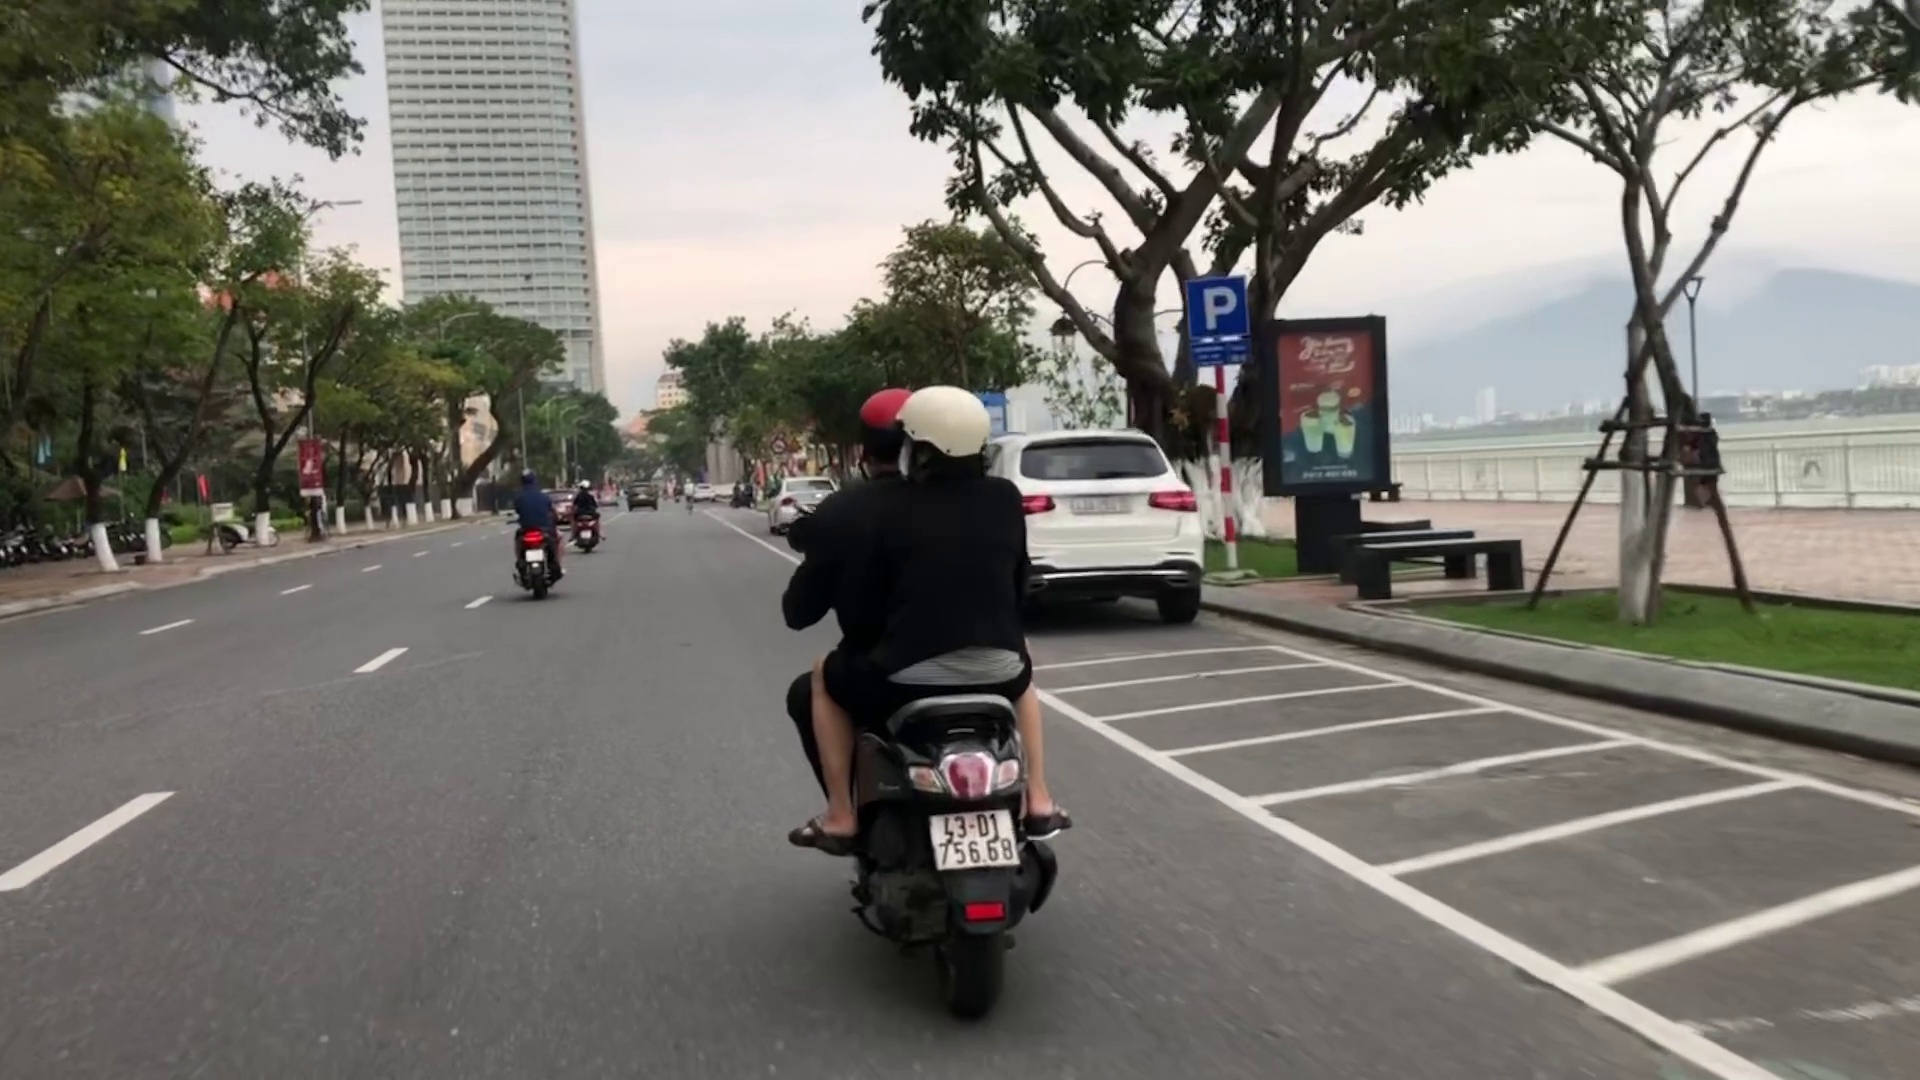Bien khac: (1182, 276, 1246, 336)
